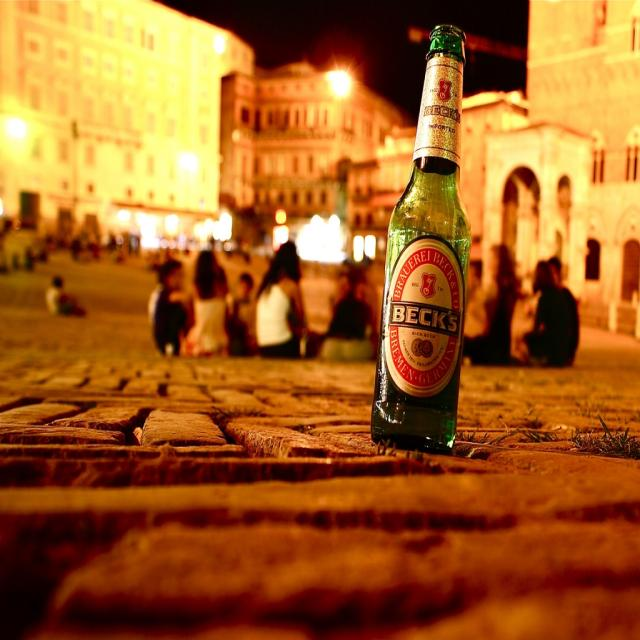becks: (384, 237, 464, 398)
